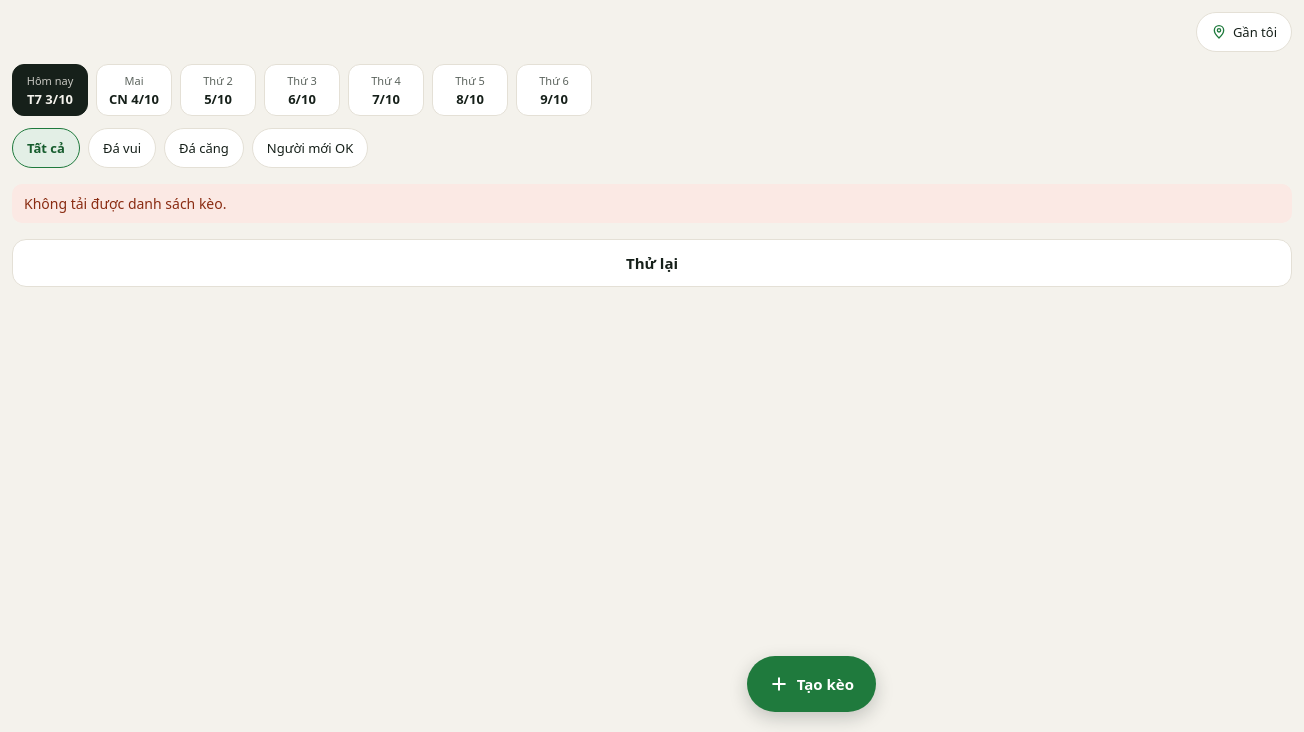
Test: MatchList › offers a retry when the list cannot be loaded
This screenshot has width=1304, height=732.
Click the button "Thử lại".
click(652, 263)  # box [12, 239, 1292, 287]
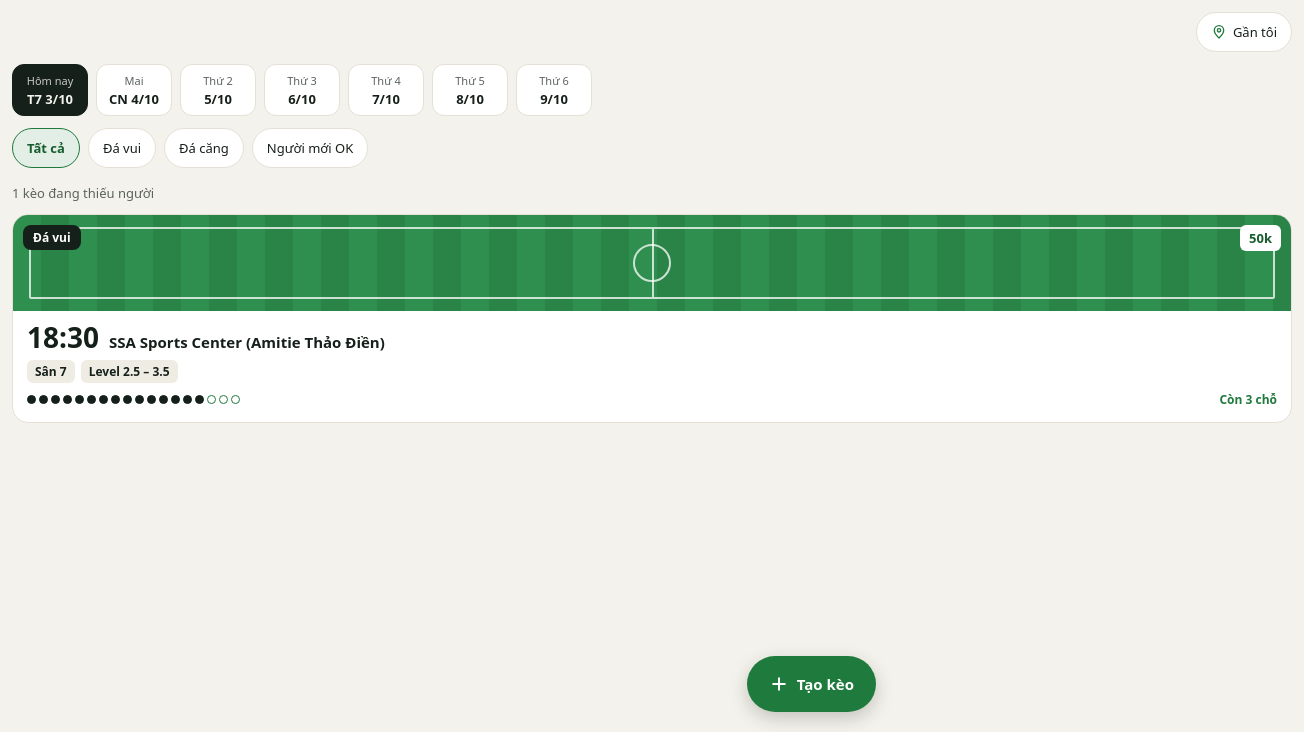
Expected: the link "SSA Sports Center" is shown, [12, 214, 1292, 423]
